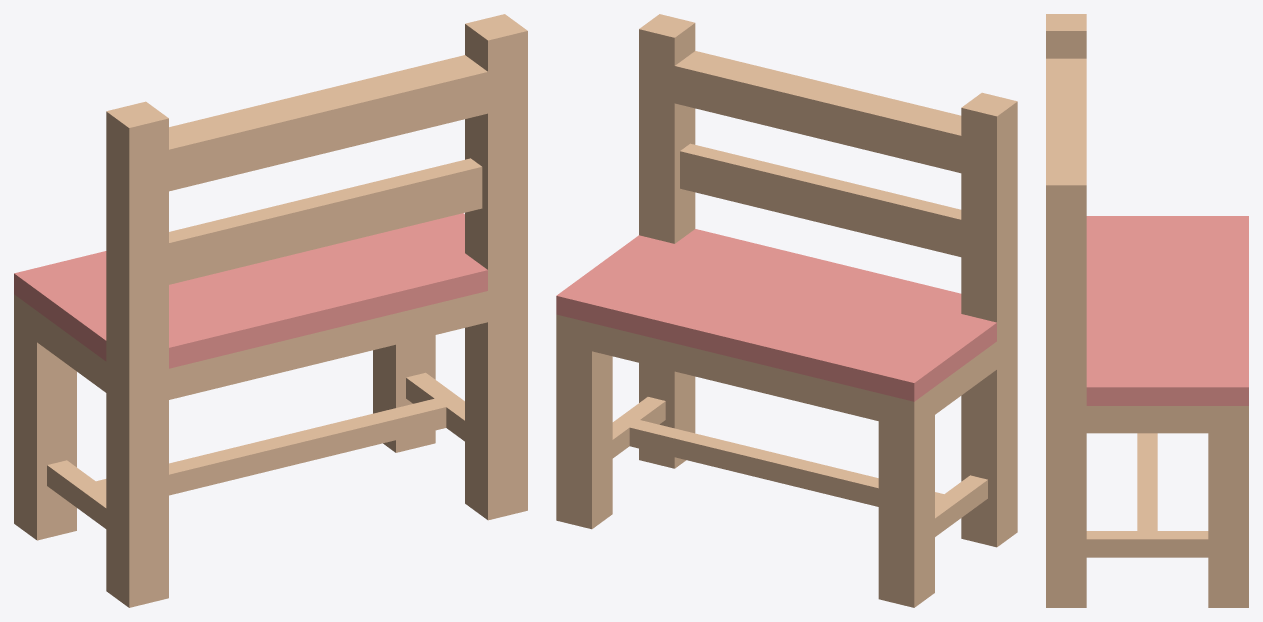
File: benchCushion.gltf
3 renders of one model, left to right at view 1: azimuth 30°, elevation 25°; view 2: azimuth 150°, elevation 25°; view 3: azimuth 270°, elevation 25°, orthographic. The views are drawn at different scales.
Parts seen in each view (by area): view 1: benchCushion; view 2: benchCushion; view 3: benchCushion.
Part boxes in pixels (x1,y1,x2,y2): benchCushion: (14, 14, 527, 607); benchCushion: (556, 14, 1017, 607); benchCushion: (1046, 14, 1248, 607).
Bounding box in the file's own units: 4 × 4.6 × 2.
